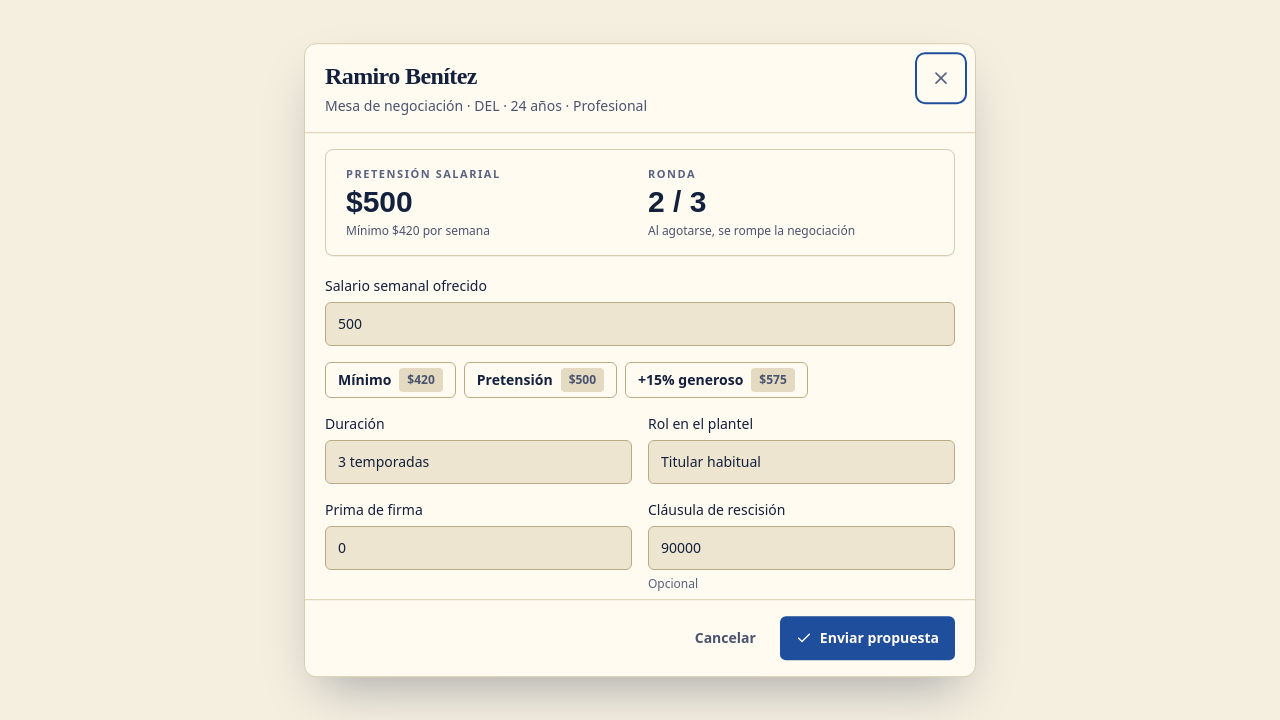
modales del plantel (escritorio) › ContractRenewalModal: los montos rápidos completan el salario
Click the button "Mínimo $420". click: (390, 380)
box: [325,362,456,398]
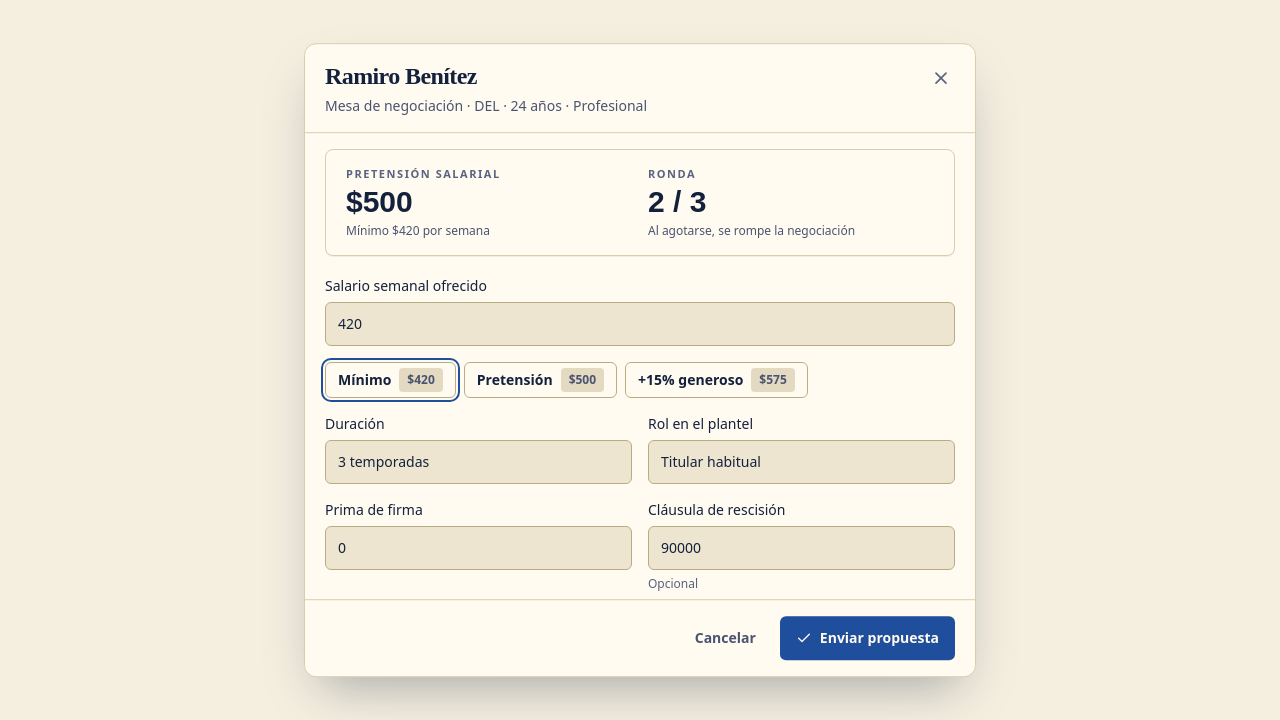
Result: the number field labelled "Salario semanal ofrecido" holds "420" at [325,302,955,346]
